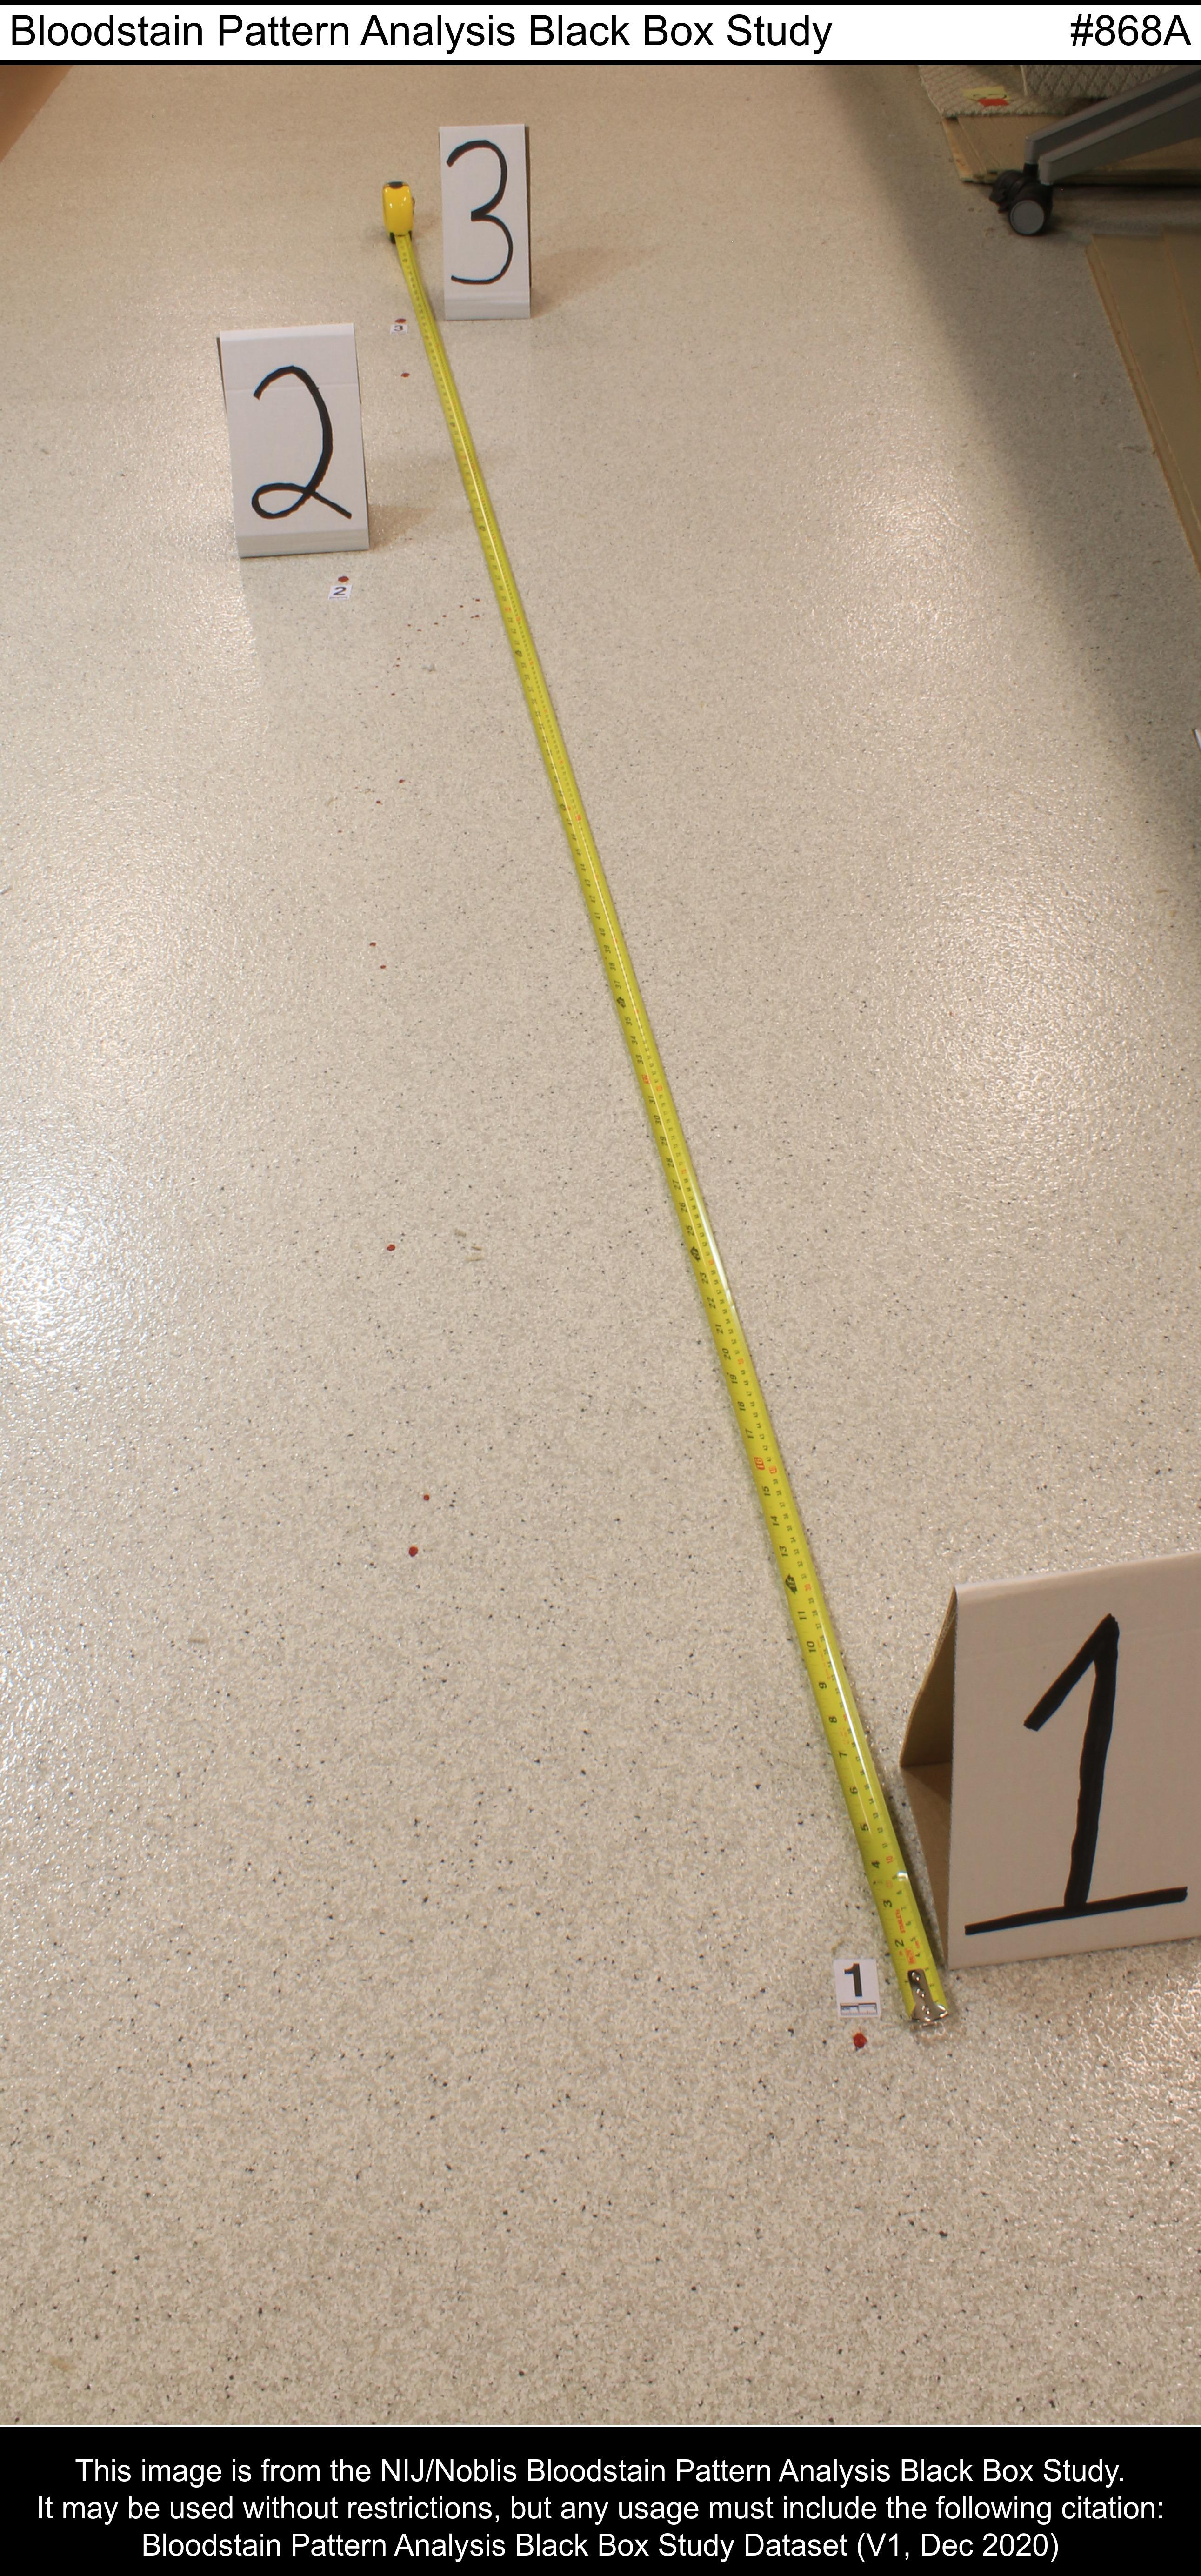Passive: (127, 572, 493, 2021)
